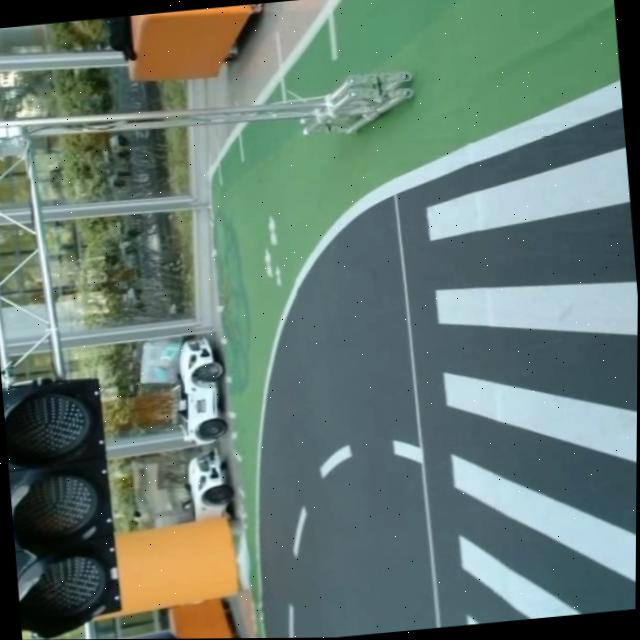traffic-light: (0, 365, 129, 640)
